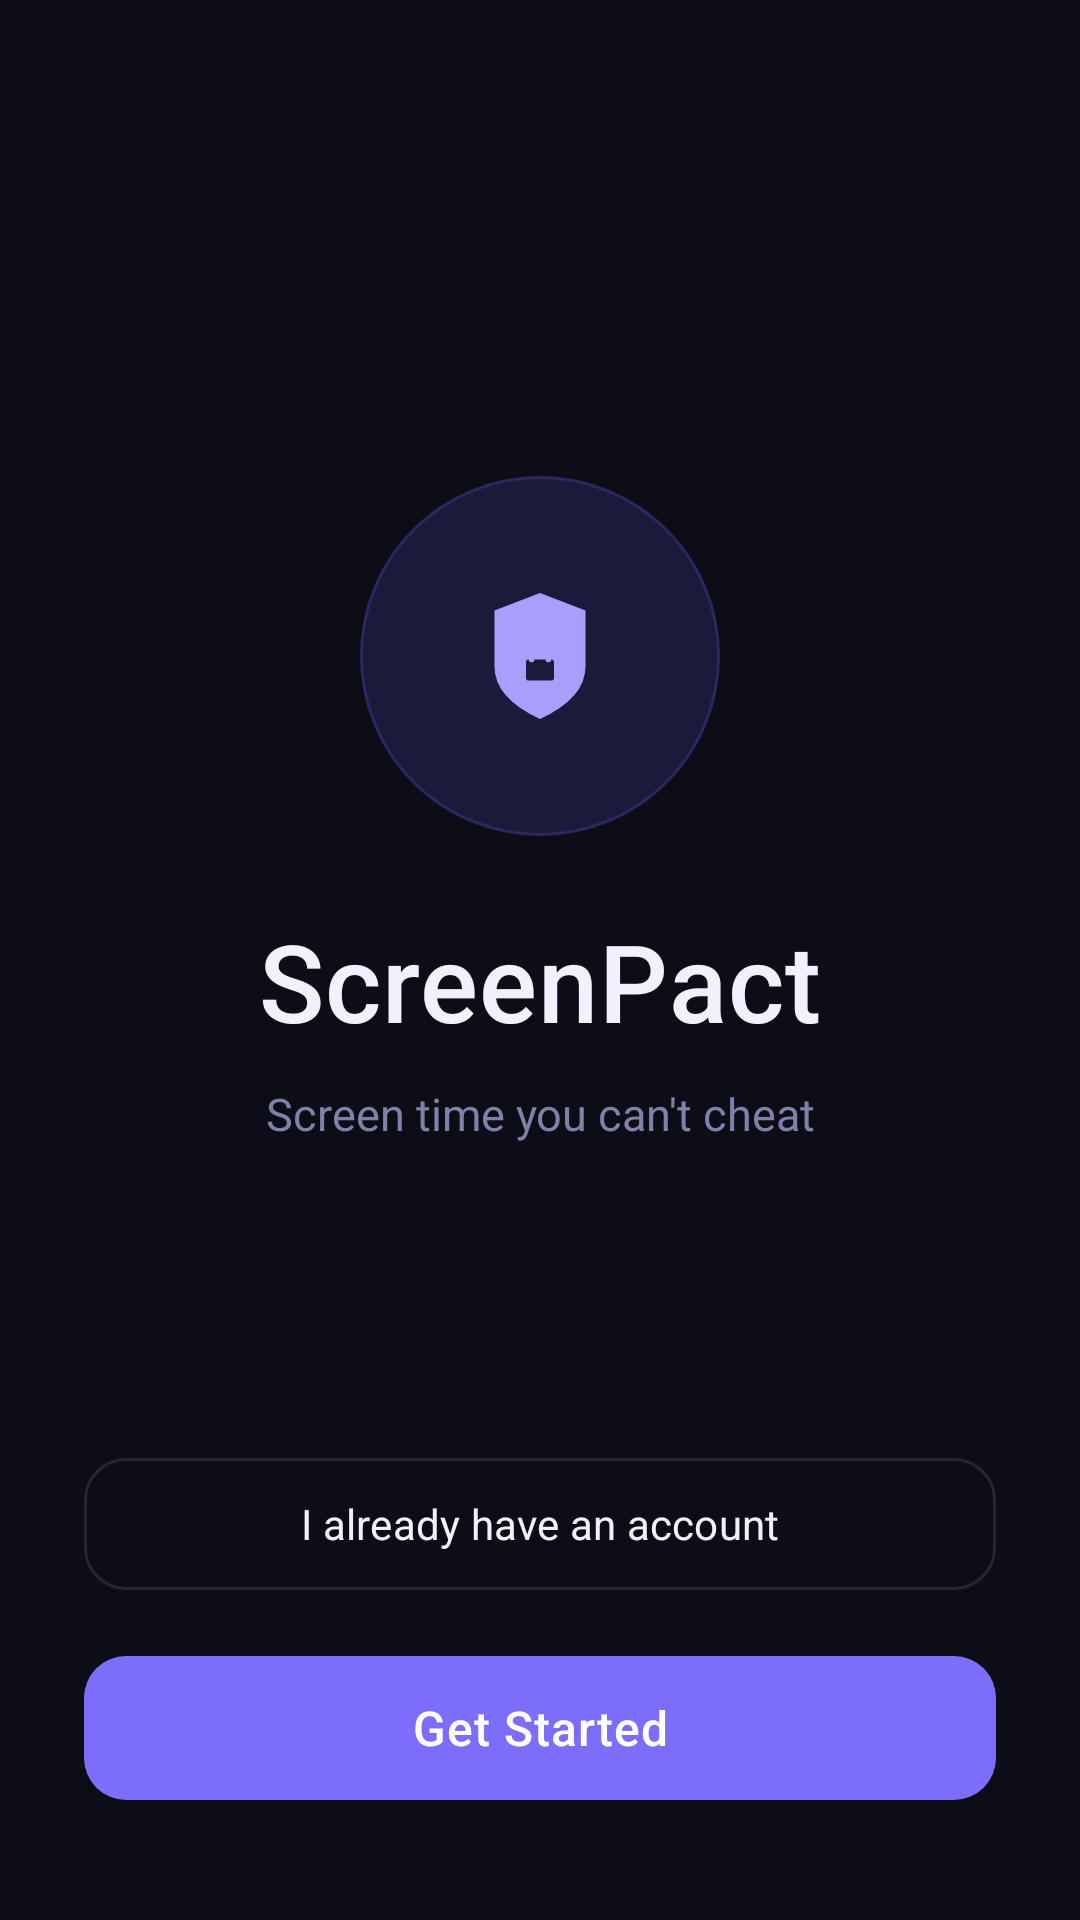

Icons on this 1080 x 1920 Android screen, each with the point to tap as [x,y]:
ScreenPact shield: [540,656]
